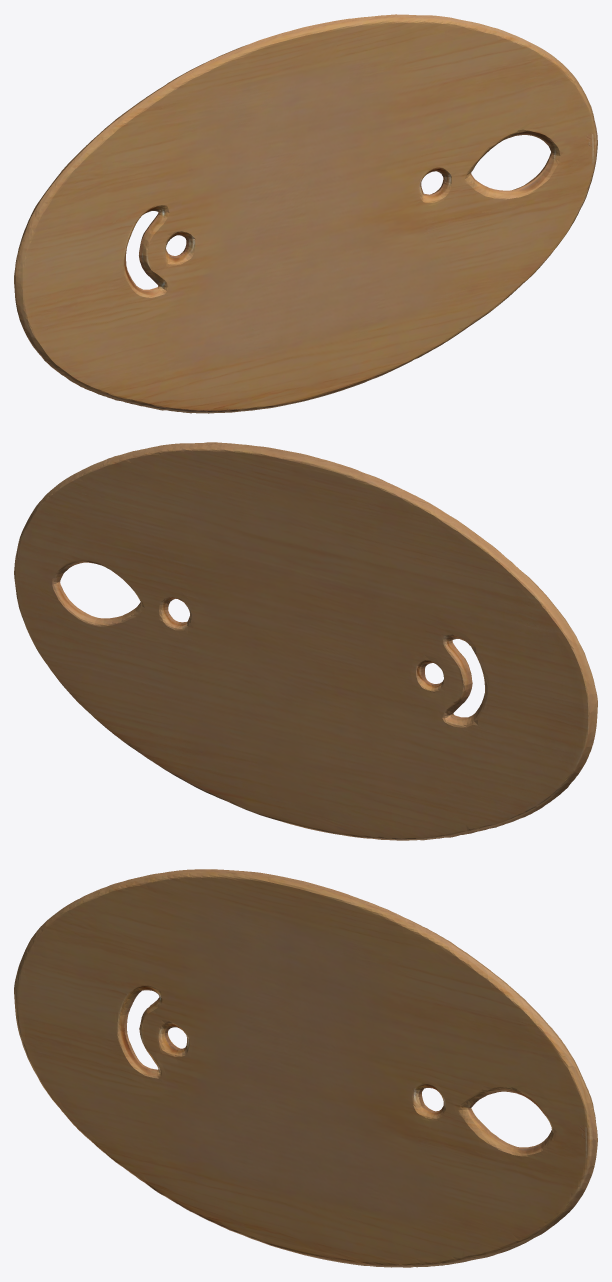
File: Ultra_realistic_oval__0505175230_texture.fbx
3 views of the same model, one above another, from view 1: azimuth 30°, elevation 25°; view 2: azimuth 150°, elevation 25°; view 3: azimuth 330°, elevation 25° (orthographic).
Parts seen in each view (by area): view 1: temp; view 2: temp; view 3: temp.
Part boxes in pixels (x1,y1,x2,y2): temp: (14, 14, 597, 413); temp: (14, 442, 597, 840); temp: (14, 869, 597, 1267).
Size of the model in its own units: 200 by 123 by 4.57.
Materials: 1 (1 with a texture image).
